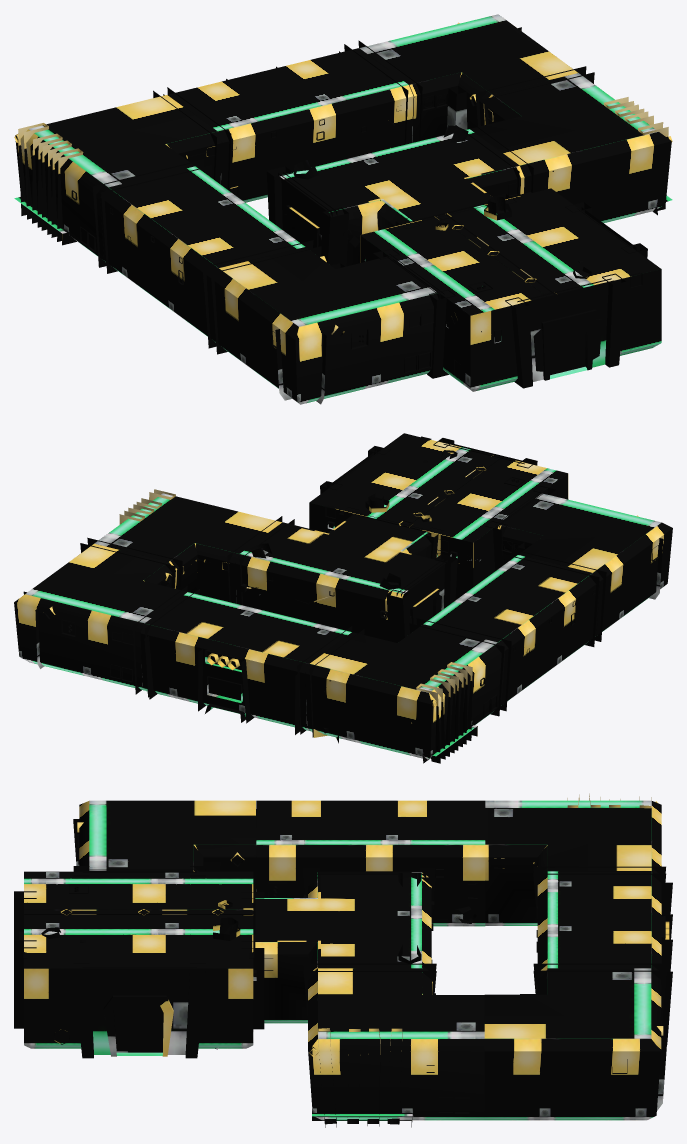
File: Combined_Mesh_root_scene__19_0bed480f__zombies2_diffuse_12_078cf75e_c1f257.obj
The picture shows the model from 3 angles, top to bottom: view 1: azimuth 30°, elevation 25°; view 2: azimuth 150°, elevation 25°; view 3: azimuth 270°, elevation 25°; orthographic projection. The views are drawn at different scales.
Size of the model in its own units: 51.83 by 9.64 by 57.53.
123 materials, 123 textured.
